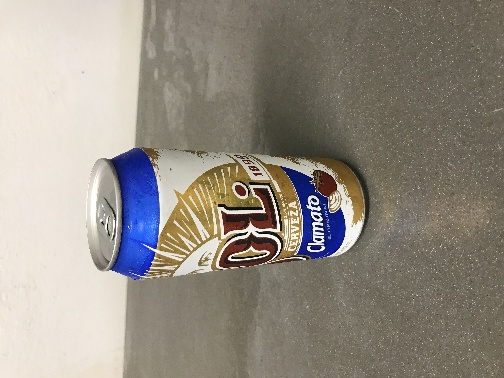SCL: (101, 110, 250, 197)
